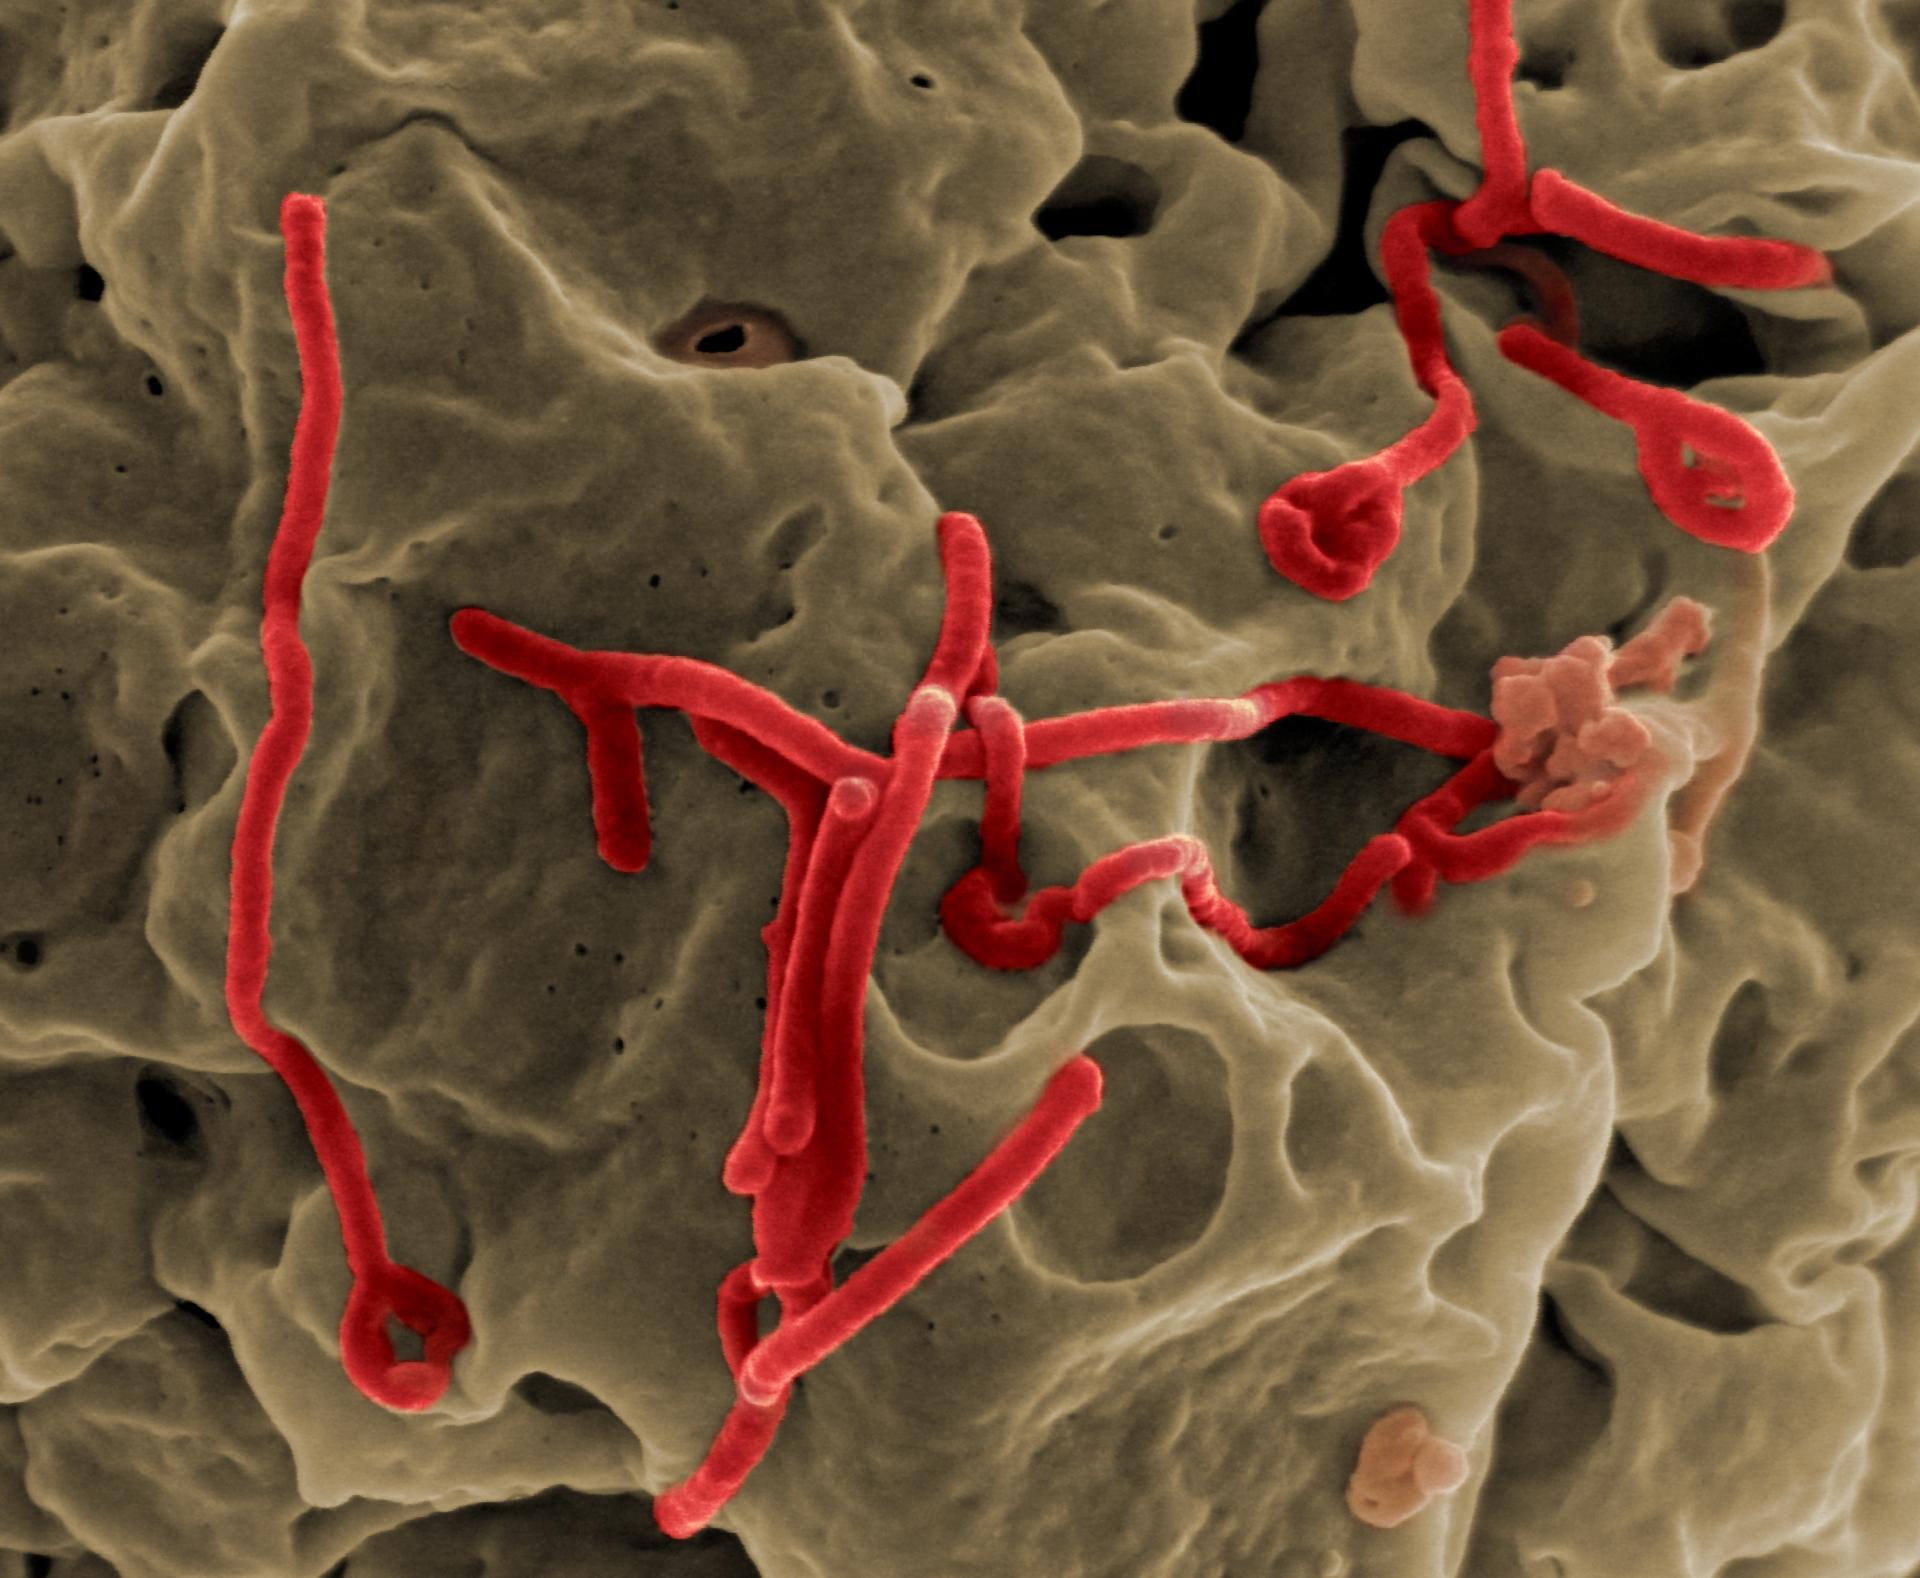EBOLA: (545, 424, 1430, 1395), (1263, 29, 1880, 893), (139, 159, 512, 1457)
